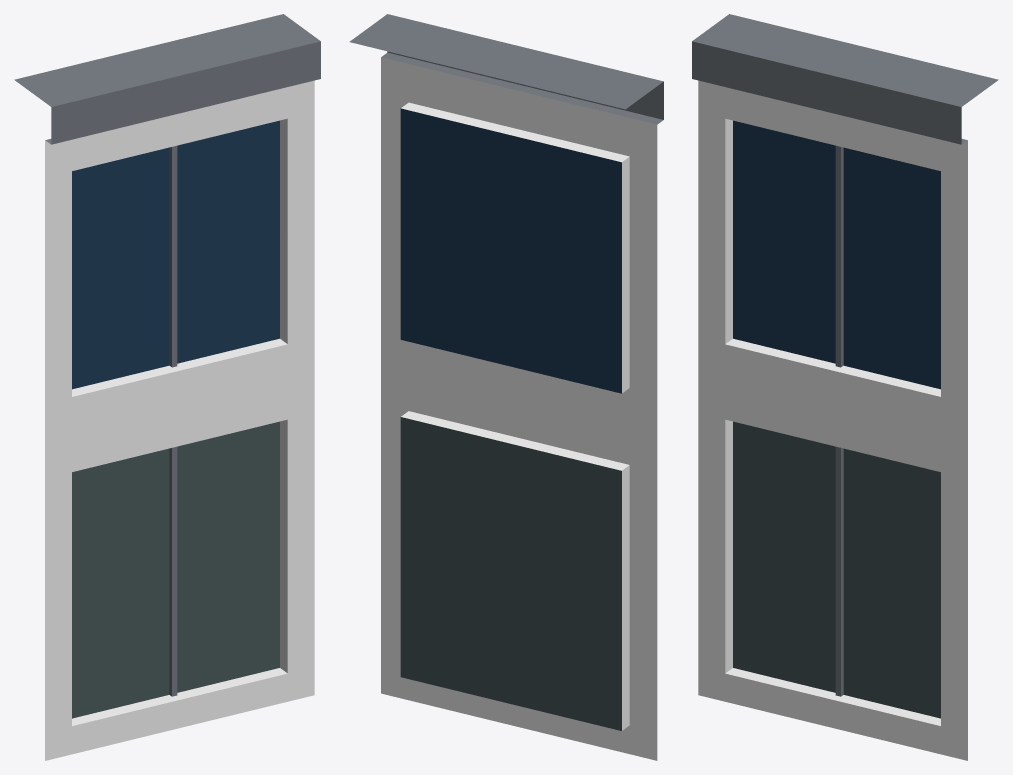
3 views of the same model, side by side, from view 1: azimuth 30°, elevation 25°; view 2: azimuth 150°, elevation 25°; view 3: azimuth 330°, elevation 25° (orthographic). The views are drawn at different scales.
Parts seen in each view (by area): view 1: a2012/200/base-w1; view 2: a2012/200/base-w1; view 3: a2012/200/base-w1.
Boxes of the visible parts, x1,y1,x2,y2 form: a2012/200/base-w1: [14, 14, 320, 760]; a2012/200/base-w1: [349, 14, 663, 760]; a2012/200/base-w1: [692, 14, 998, 760].
Bounding box in the file's own units: 3 × 7 × 0.72.
